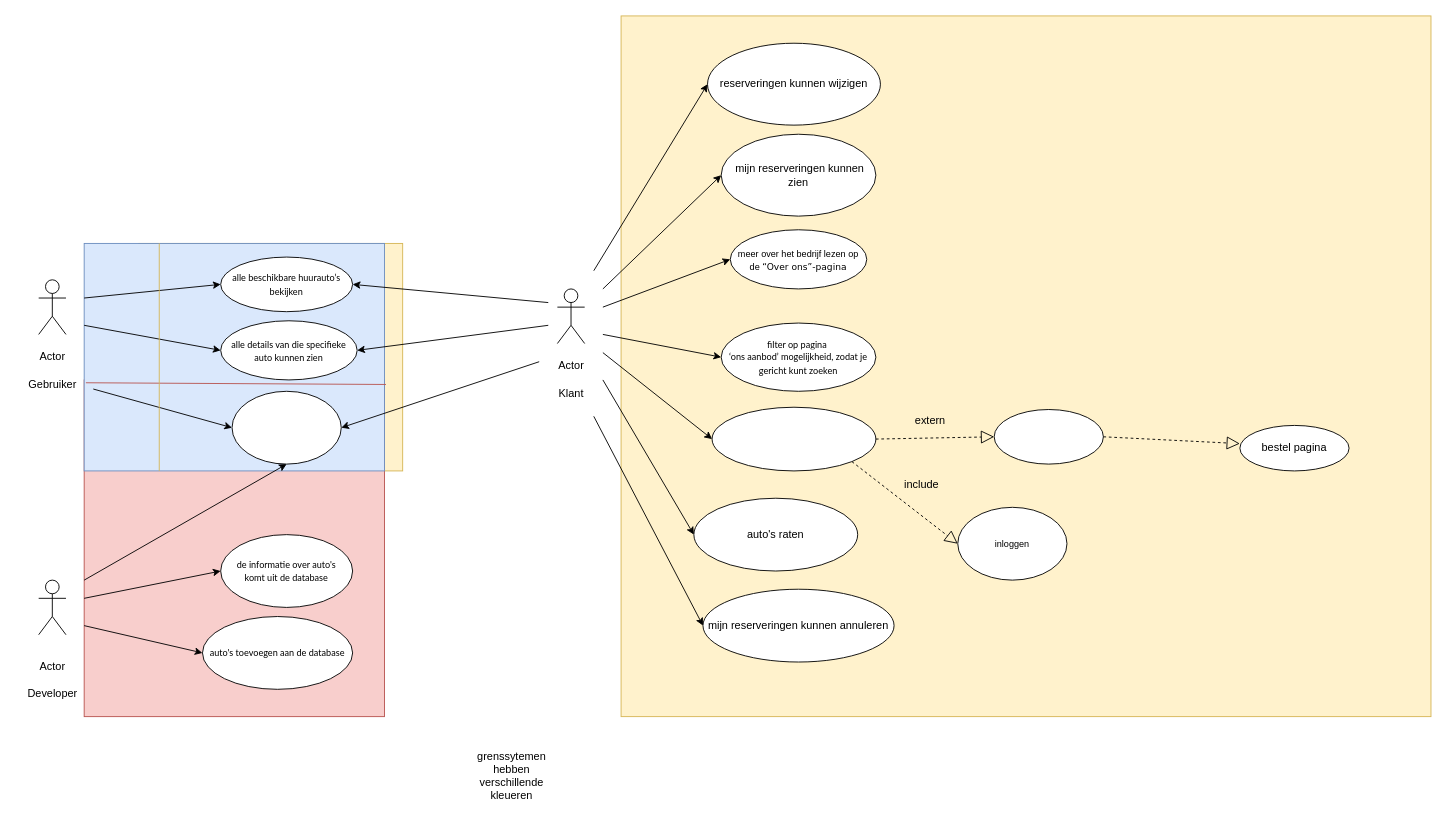
The diagram is 1447 pixels wide and 818 high, and some of its shapes have lost their labels. Here are the shapes that lost their labels. From the top down, the box of each, then its label:
(231, 390, 341, 464): registreren met een veilig opgeslagen wachtwoord
(711, 406, 876, 471): auto's huren
(993, 409, 1103, 464): betalen
